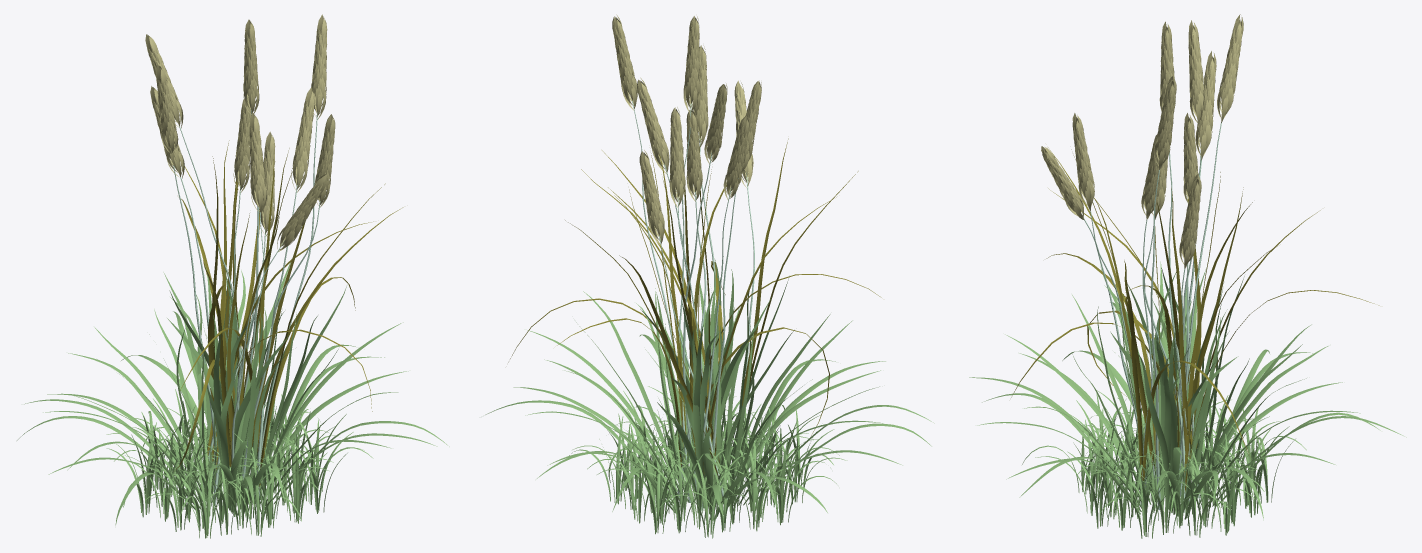
File: foxtail_grass.glb
The picture shows the model from 3 angles, left to right: view 1: azimuth 30°, elevation 25°; view 2: azimuth 150°, elevation 25°; view 3: azimuth 270°, elevation 25°; orthographic projection.
Parts seen in each view (by area): view 1: Polygone, Polygone_2; view 2: Polygone, Polygone_2; view 3: Polygone, Polygone_2.
Part boxes in pixels (x1,y1,x2,y2): Polygone: [17, 14, 449, 525]; Polygone_2: [106, 385, 373, 538]; Polygone: [485, 14, 934, 517]; Polygone_2: [569, 386, 847, 538]; Polygone: [969, 14, 1406, 520]; Polygone_2: [1022, 390, 1306, 538].
Bounding box in the file's own units: 0.9729 × 1.17 × 0.9696.
